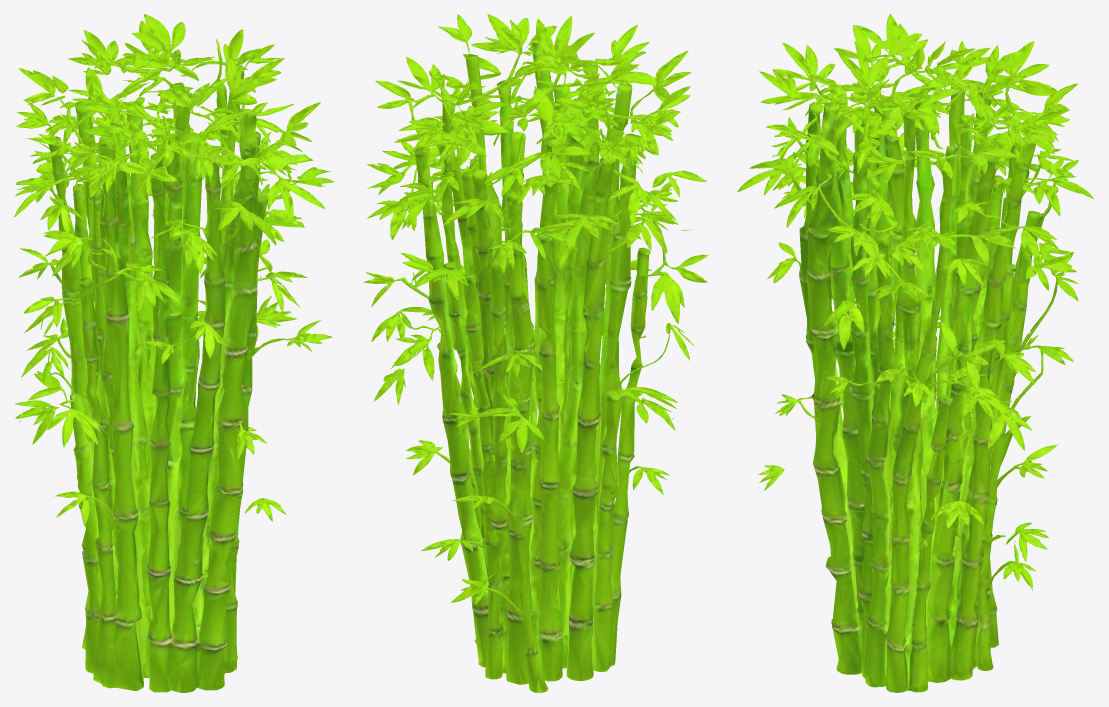
Rendered from bamboo_cluster.glb.
The picture shows the model from 3 angles, left to right: view 1: azimuth 30°, elevation 25°; view 2: azimuth 150°, elevation 25°; view 3: azimuth 270°, elevation 25°; orthographic projection.
Bounding box in the file's own units: 0.9669 × 1.9 × 1.
1 material, 1 textured.
